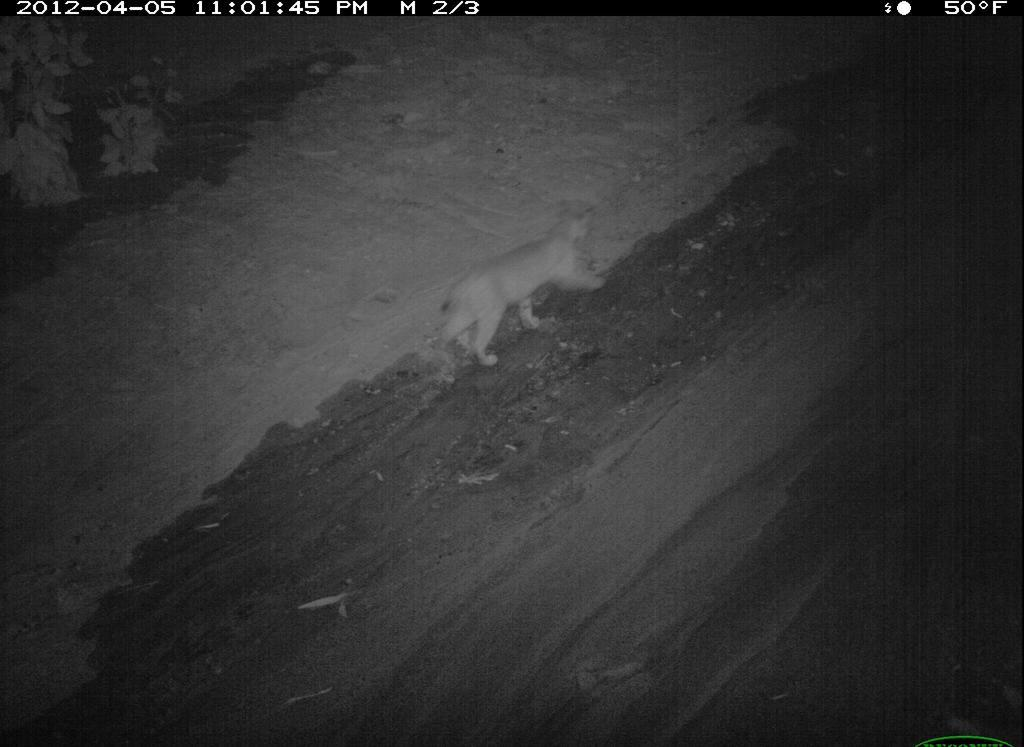bobcat: (864, 405, 1024, 742)
